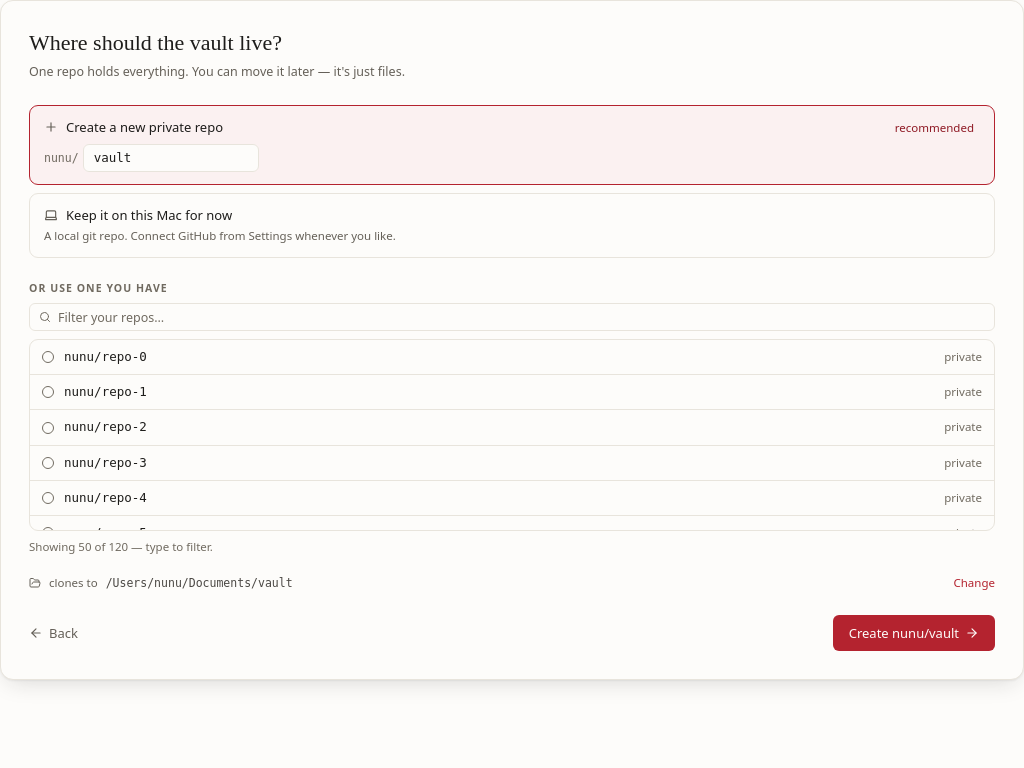
it: RepoPicker — long lists › counts what the filter matches, and goes quiet once it all fits
The image size is (1024, 768).
Expected: the text "nunu/repo-0" is shown, [64,348,147,366]
Type "repo-1" into the field with placeholder "Filter your repos…" at point(512, 317), box [29,303,995,331]
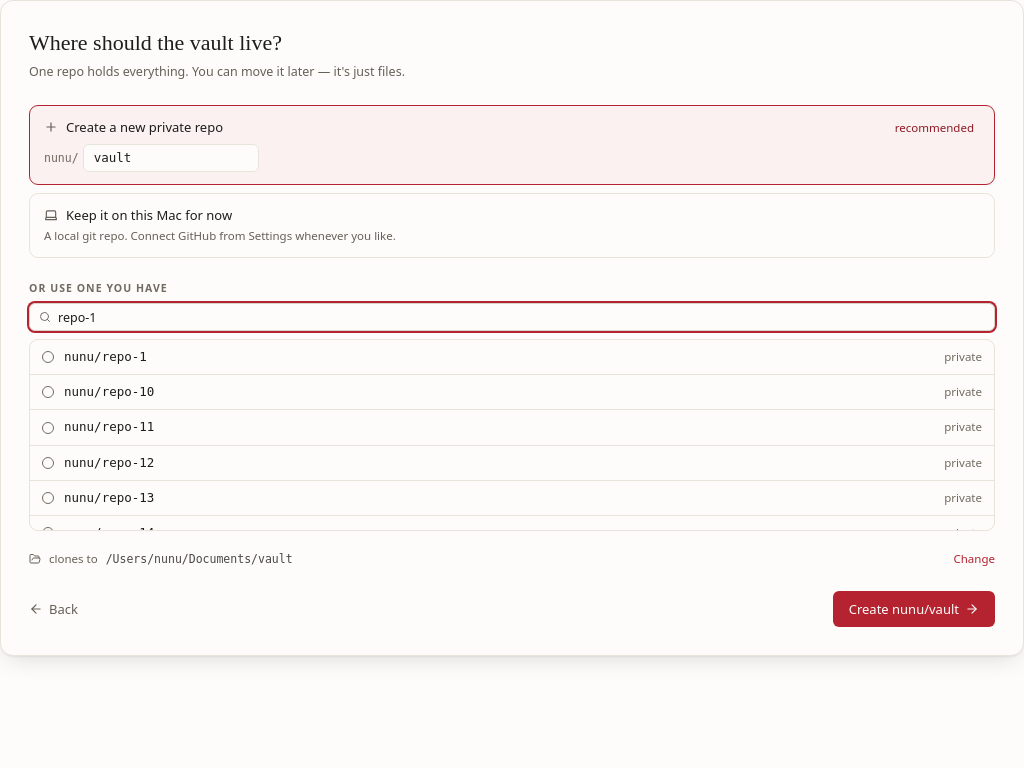
Expected: the text "Showing 50 of 120 — type to filter." is gone
Clear the field with placeholder "Filter your repos…" at point(512, 317), box [29,303,995,331]
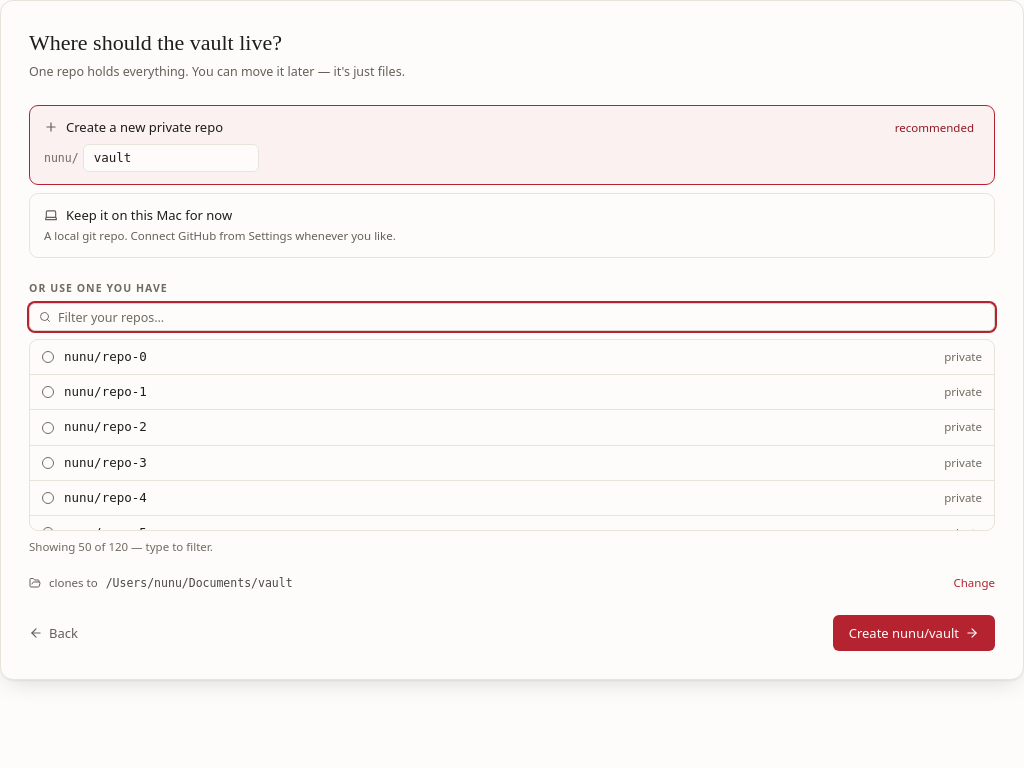
Expected: the text "Showing 50 of 120 — type to filter." is shown, [29,539,213,554]
